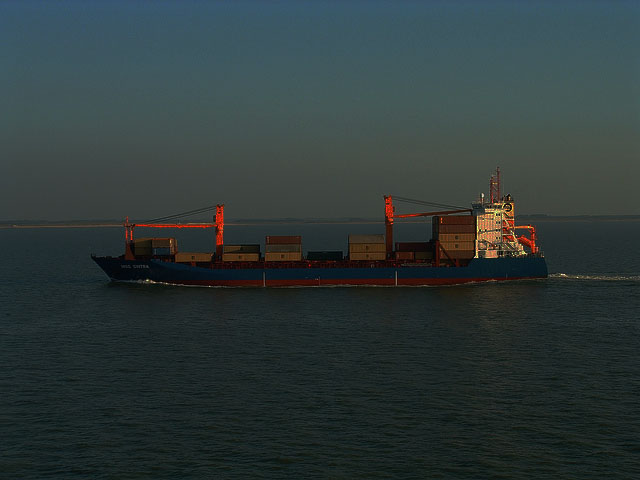container_ship: (86, 168, 549, 284)
